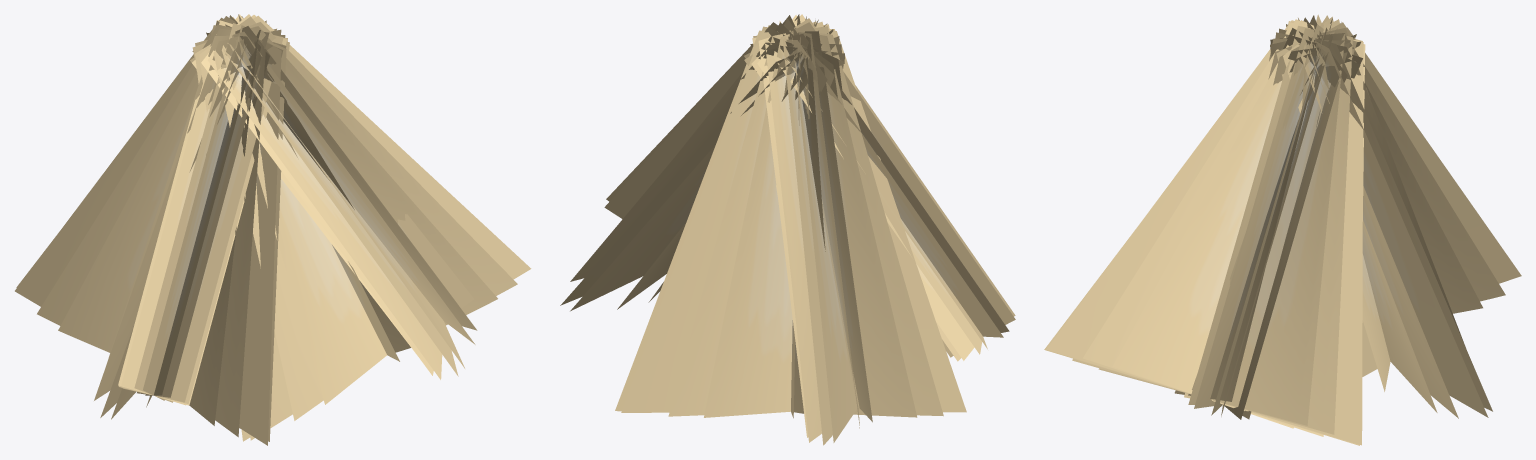
Rendered from Sunbeams_B.fbx.
The picture shows the model from 3 angles, left to right: view 1: azimuth 30°, elevation 25°; view 2: azimuth 150°, elevation 25°; view 3: azimuth 270°, elevation 25°; orthographic projection. The views are drawn at different scales.
Visible parts, largest first — view 1: Sunbeams_B; view 2: Sunbeams_B; view 3: Sunbeams_B.
Boxes of the visible parts, left/top/right/bottom form: Sunbeams_B: left=15, top=14, right=531, bottom=445; Sunbeams_B: left=560, top=14, right=1015, bottom=445; Sunbeams_B: left=1044, top=14, right=1521, bottom=445.
Size of the model in its own units: 5.83 by 5.33 by 5.86.
Materials: 1 (1 with a texture image).
